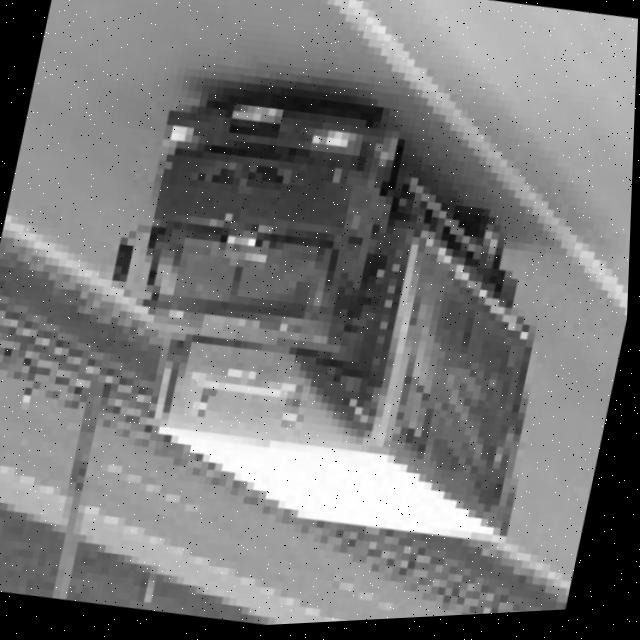truck: (66, 48, 470, 472)
